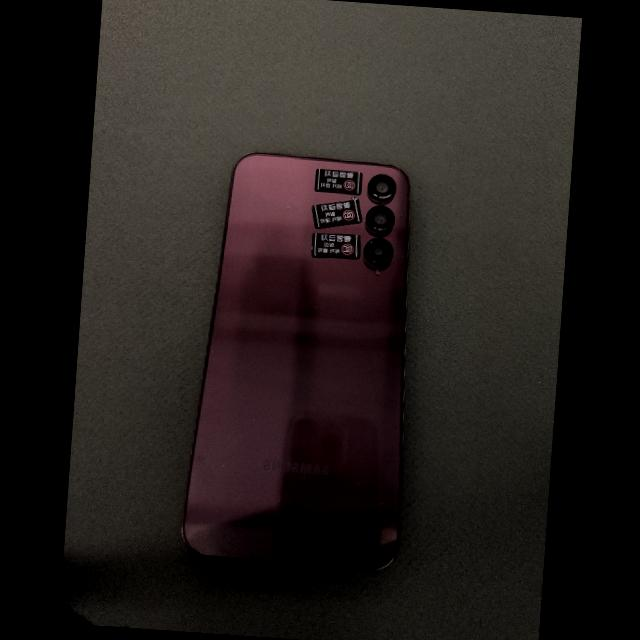lens: (363, 238, 392, 267), (364, 205, 394, 233), (367, 175, 395, 201)
phone: (181, 153, 409, 570)
sticker: (311, 199, 362, 228), (314, 168, 362, 194)
